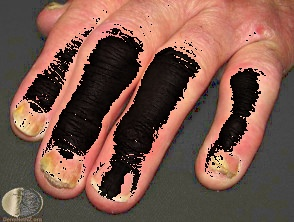Nail_psoriasis: (33, 140, 94, 201), (2, 92, 55, 145), (85, 169, 140, 207), (245, 18, 288, 59), (201, 148, 245, 185), (41, 2, 74, 12)
